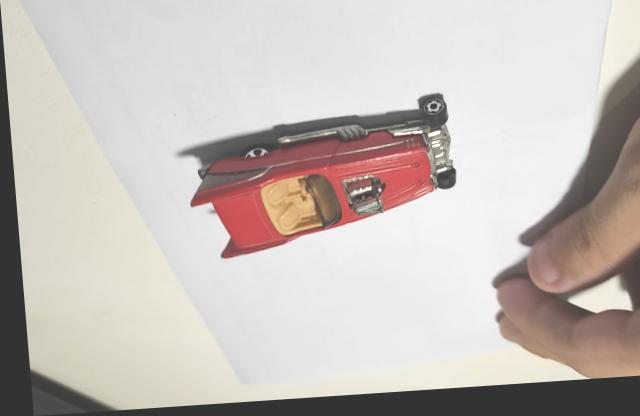03_V8: (186, 98, 453, 261)
